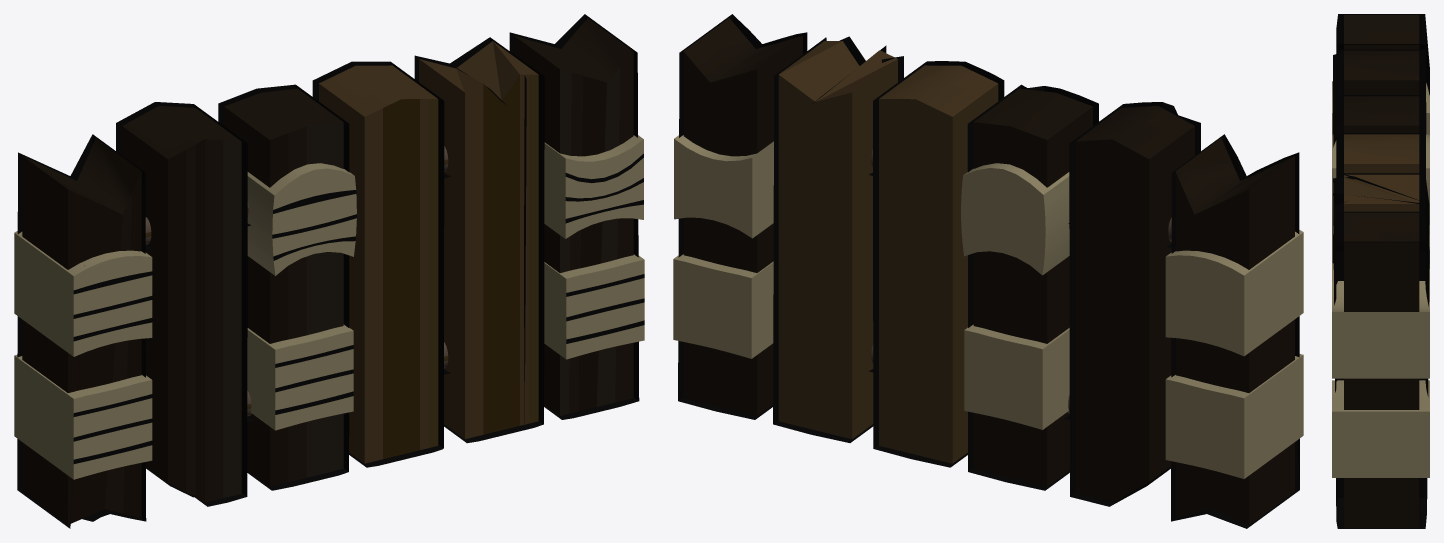
Rendered from fence.FBX.
The picture shows the model from 3 angles, left to right: view 1: azimuth 30°, elevation 25°; view 2: azimuth 150°, elevation 25°; view 3: azimuth 270°, elevation 25°; orthographic projection. The views are drawn at different scales.
Parts seen in each view (by area): view 1: Box007, Box008; view 2: Box007, Box008; view 3: Box007, Box008.
Part boxes in pixels (left/top/right/bottom): Box007: left=14, top=18, right=644, bottom=524; Box008: left=17, top=14, right=639, bottom=528; Box007: left=673, top=18, right=1303, bottom=524; Box008: left=678, top=14, right=1299, bottom=528; Box007: left=1332, top=15, right=1429, bottom=527; Box008: left=1333, top=14, right=1429, bottom=528.
Size of the model in its own units: 19.02 by 11.64 by 3.44.
